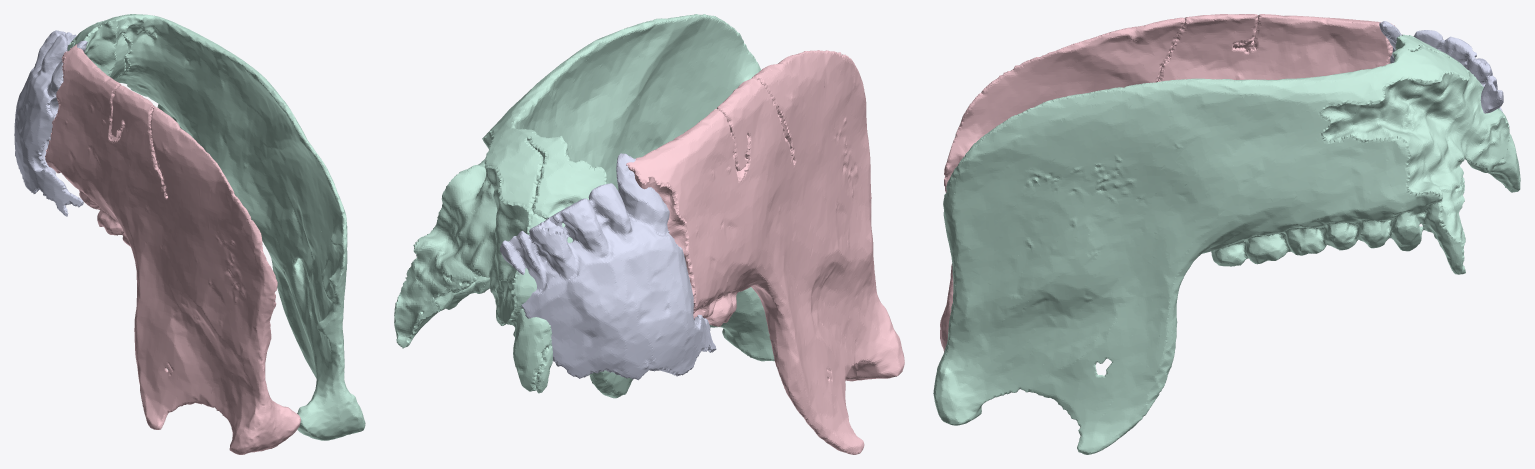
Rendered from 73544_colored.glb.
3 views of the same model, side by side, from view 1: azimuth 30°, elevation 25°; view 2: azimuth 150°, elevation 25°; view 3: azimuth 270°, elevation 25° (orthographic). The views are drawn at different scales.
Visible parts, largest first — view 1: world; view 2: world; view 3: world.
Part boxes in pixels (bbox=[...]): world: bbox=[14, 14, 365, 454]; world: bbox=[394, 14, 904, 454]; world: bbox=[933, 14, 1520, 454].
Bounding box in the file's own units: 0.438 × 0.6759 × 0.9802.
